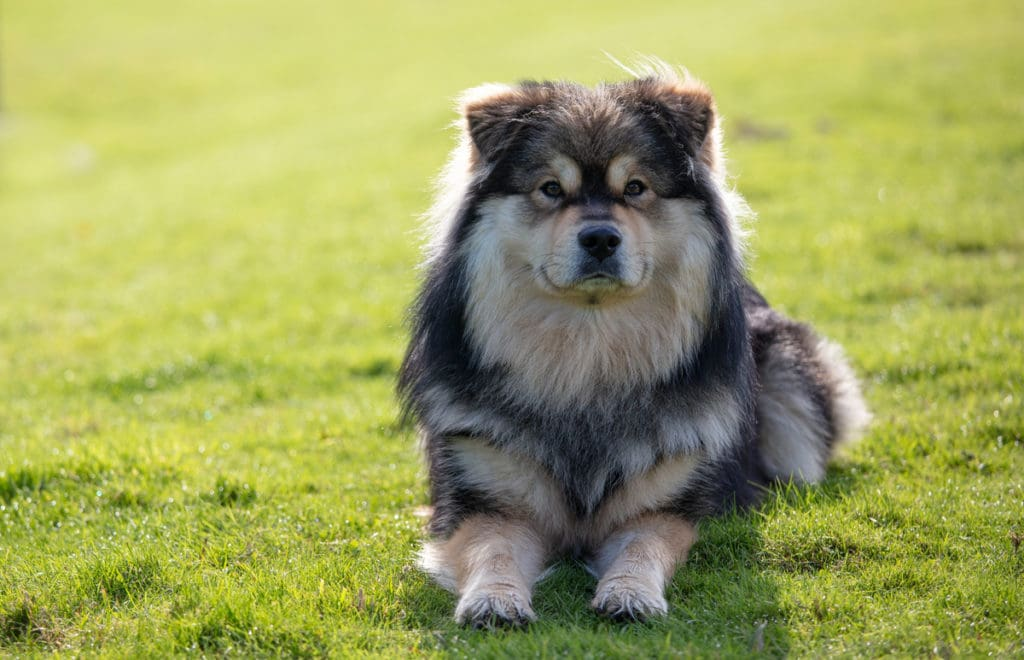Dog: (365, 41, 908, 623)
